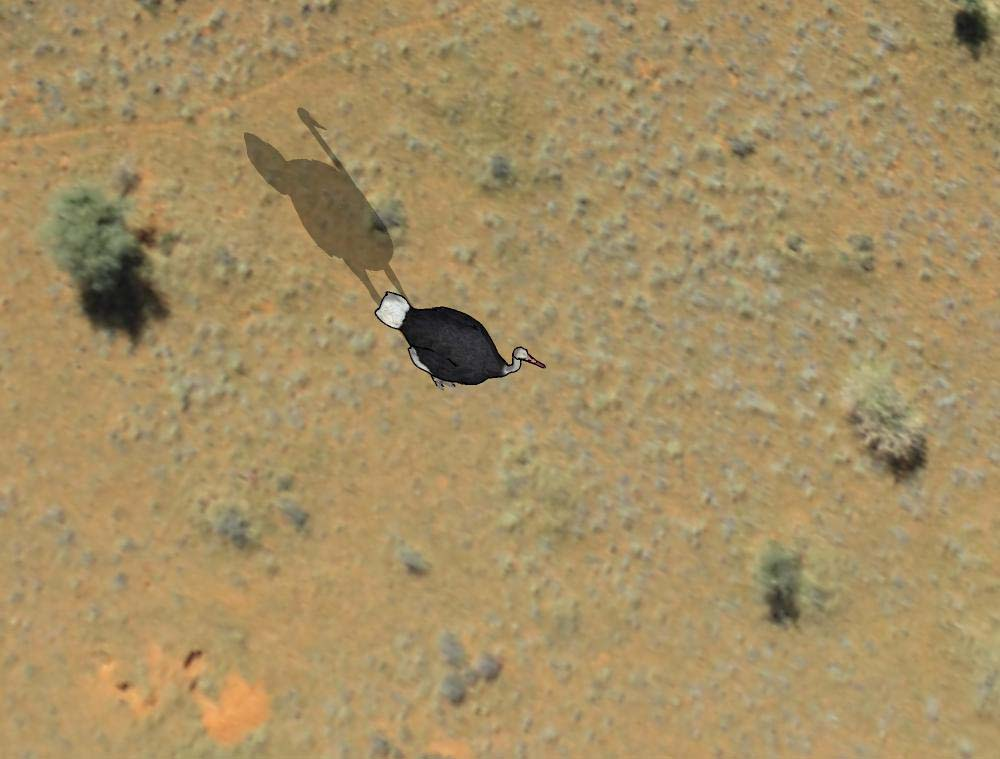springbok: (366, 273, 553, 403)
